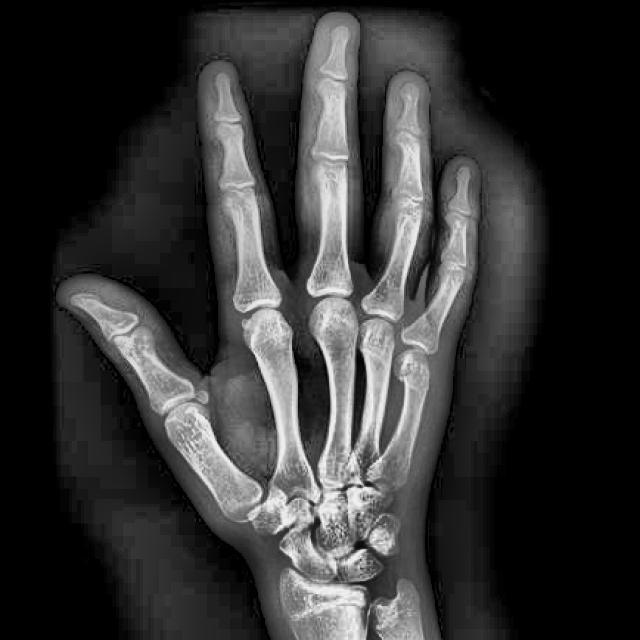fracture: (398, 368, 419, 391)
